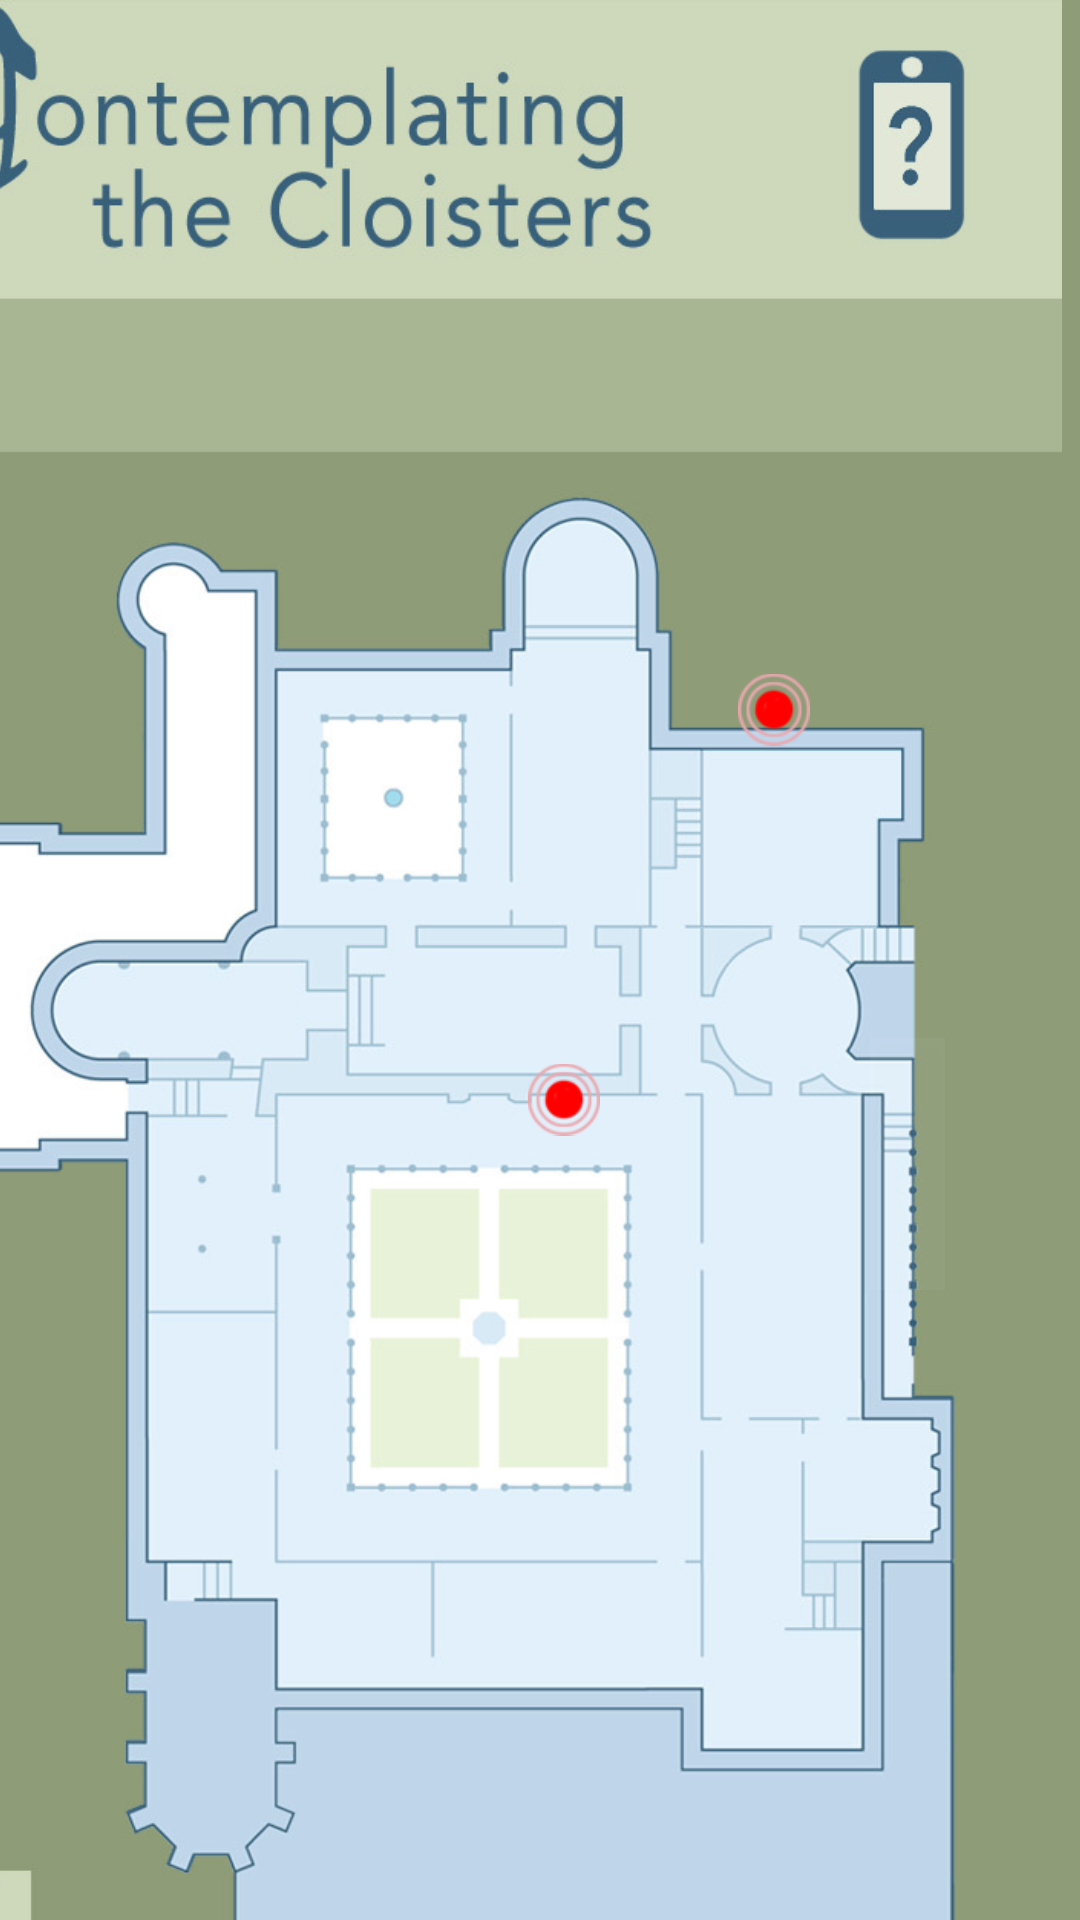

Where icons sit on this 1080w x 1920h app screen, as (x1, y1, x2, y2):
active: (738, 674, 810, 750), (528, 1064, 600, 1136)
